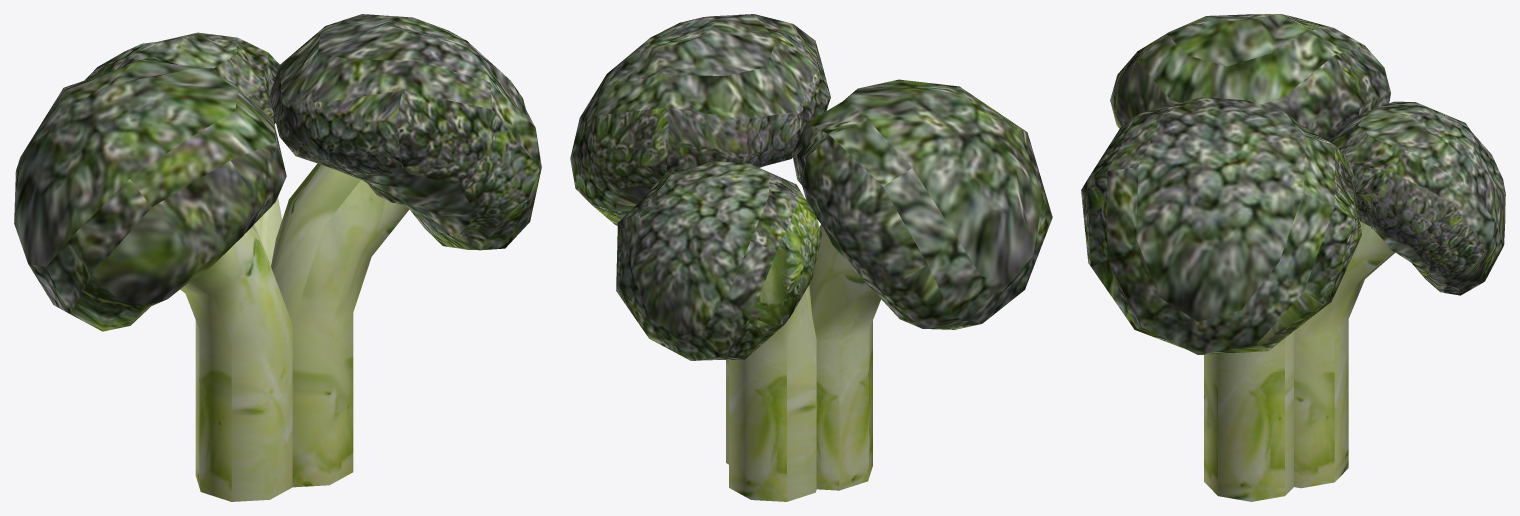
The model's file is Broccoli Model.fbx.
3 views of the same model, side by side, from view 1: azimuth 30°, elevation 25°; view 2: azimuth 150°, elevation 25°; view 3: azimuth 270°, elevation 25° (orthographic). The views are drawn at different scales.
Visible parts, largest first — view 1: Broccoli; view 2: Broccoli; view 3: Broccoli.
Part boxes in pixels (x1,y1,x2,y2): Broccoli: [14, 14, 541, 501]; Broccoli: [570, 14, 1052, 501]; Broccoli: [1081, 14, 1505, 501].
Size of the model in its own units: 5.18 by 4.53 by 4.34.
Materials: 1 (1 with a texture image).
